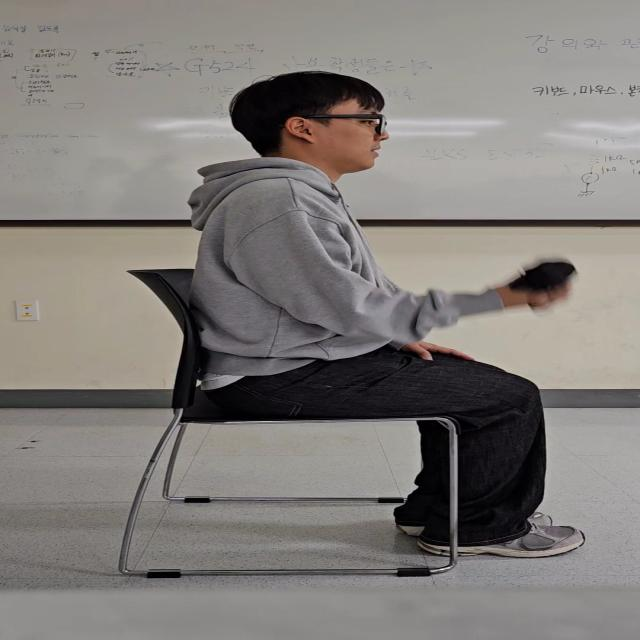curl: (232, 197, 564, 340)
